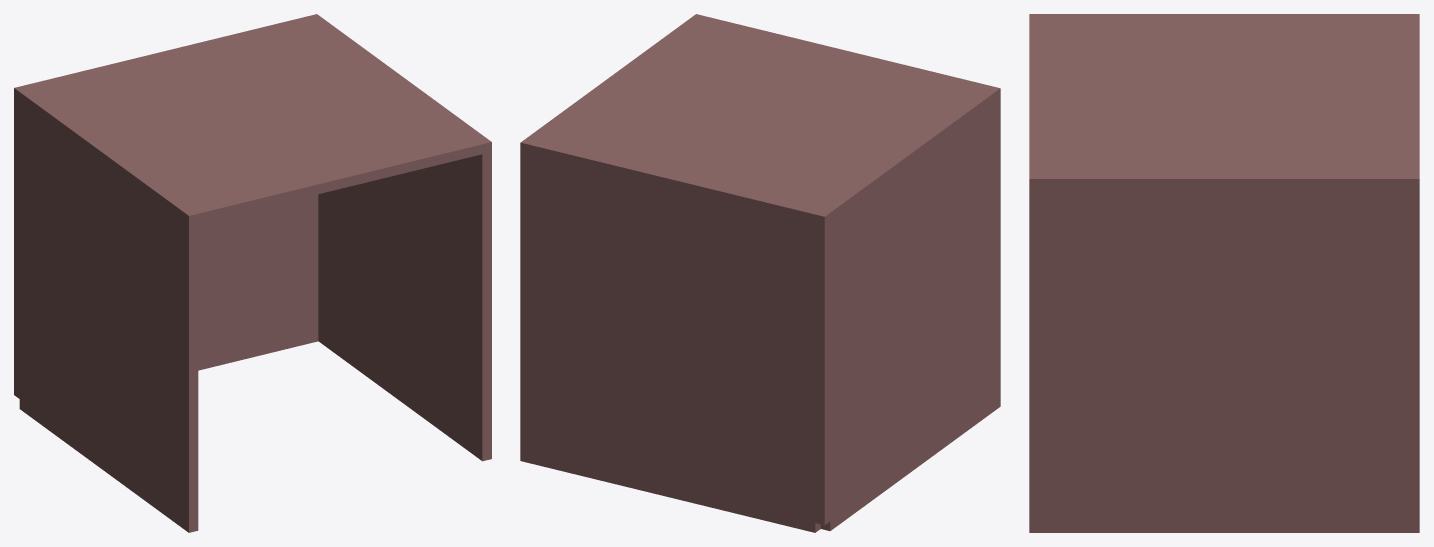
The picture shows the model from 3 angles, left to right: view 1: azimuth 30°, elevation 25°; view 2: azimuth 150°, elevation 25°; view 3: azimuth 270°, elevation 25°; orthographic projection. The views are drawn at different scales.
Bounding box in the file's own units: 1.6 × 1.6 × 1.6.
